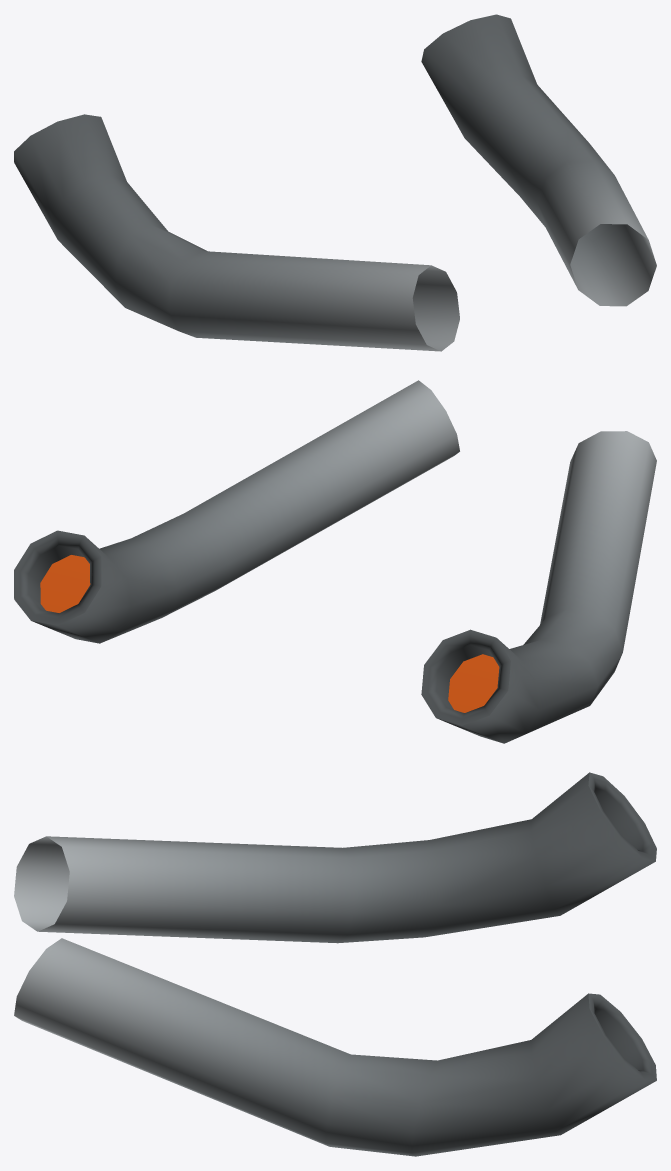
File: Car_03_Pipe_Simple.fbx
3 views of the same model, one above another, from view 1: azimuth 30°, elevation 25°; view 2: azimuth 150°, elevation 25°; view 3: azimuth 270°, elevation 25° (orthographic). The views are drawn at different scales.
Parts seen in each view (by area): view 1: Car_03_Pipe_Simple; view 2: Car_03_Pipe_Simple; view 3: Car_03_Pipe_Simple.
Boxes of the visible parts, x1=… form: Car_03_Pipe_Simple: x1=14, y1=14, x2=656, y2=351; Car_03_Pipe_Simple: x1=14, y1=380, x2=656, y2=743; Car_03_Pipe_Simple: x1=14, y1=772, x2=656, y2=1156.
Size of the model in its own units: 99.39 by 101 by 26.53.
